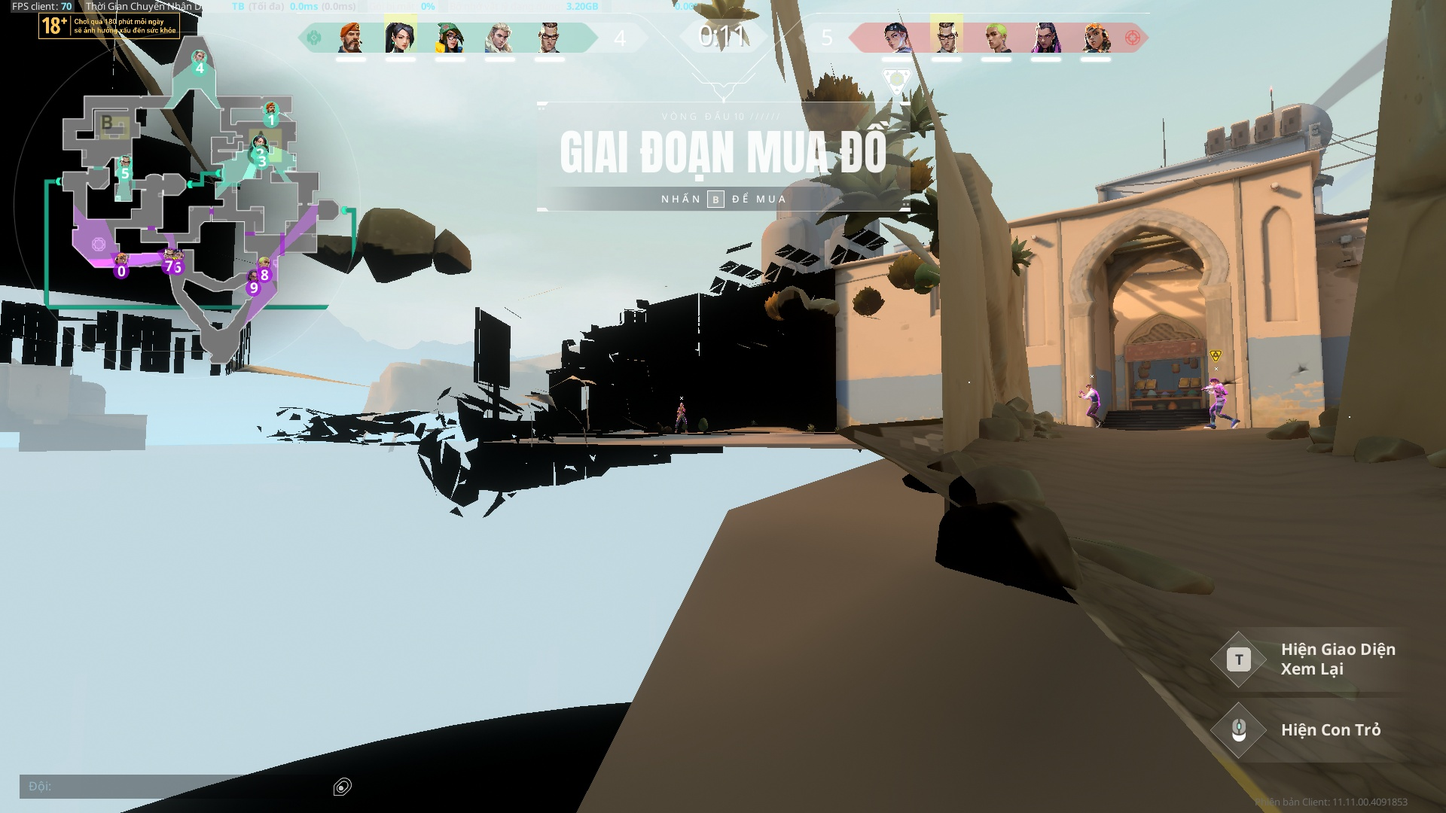body: (1209, 384, 1226, 400), (1087, 388, 1100, 402)
head: (1209, 378, 1221, 385), (1085, 382, 1091, 390)
